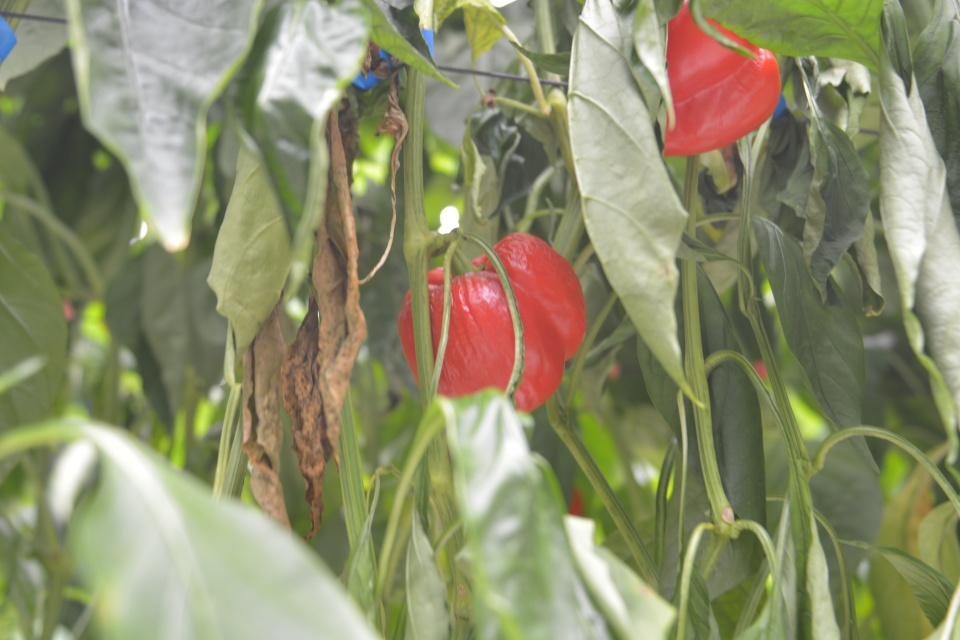fruit: (395, 228, 590, 414), (662, 0, 782, 160)
